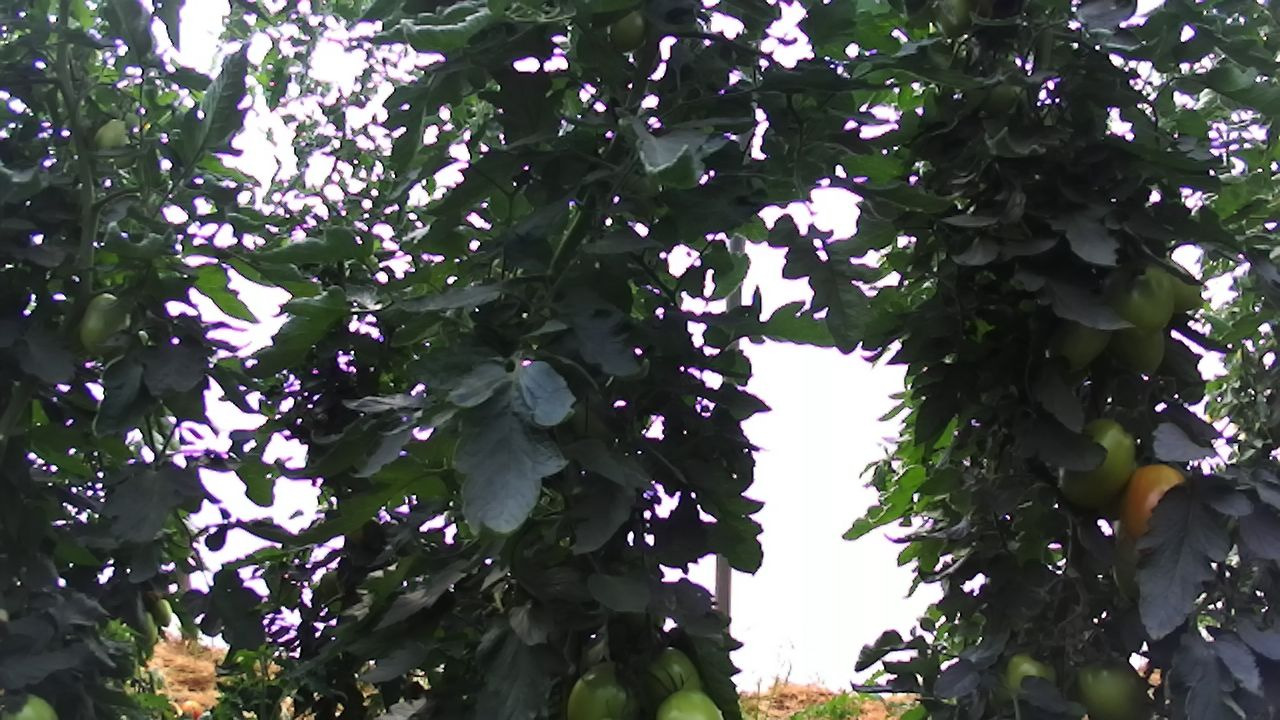tomato: (1046, 413, 1143, 509), (1118, 455, 1191, 551), (562, 656, 659, 720), (1107, 259, 1180, 334), (1071, 656, 1154, 720), (77, 289, 133, 363)
